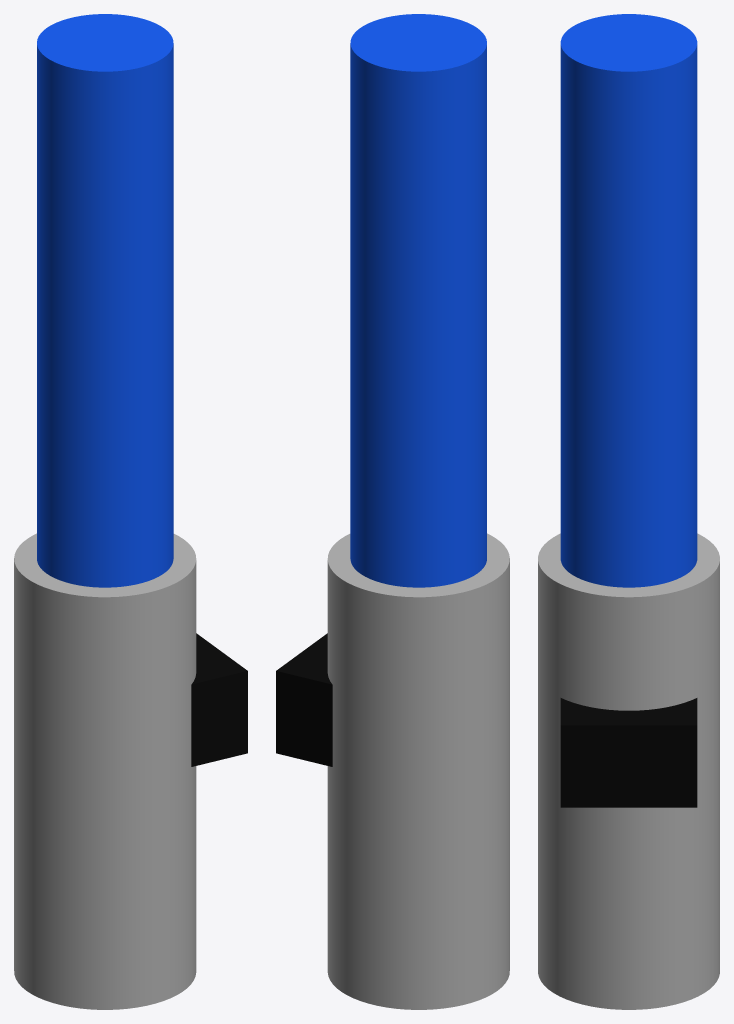
Rendered from coolant_quick_connect.glb.
3 views of the same model, side by side, from view 1: azimuth 30°, elevation 25°; view 2: azimuth 150°, elevation 25°; view 3: azimuth 270°, elevation 25° (orthographic).
Visible parts, largest first — view 1: quick_connect; view 2: quick_connect; view 3: quick_connect.
Part boxes in pixels (x1,y1,x2,y2): quick_connect: (14, 14, 247, 1009); quick_connect: (276, 14, 509, 1009); quick_connect: (538, 14, 719, 1009).
Bounding box in the file's own units: 0.019 × 0.09 × 0.016.
